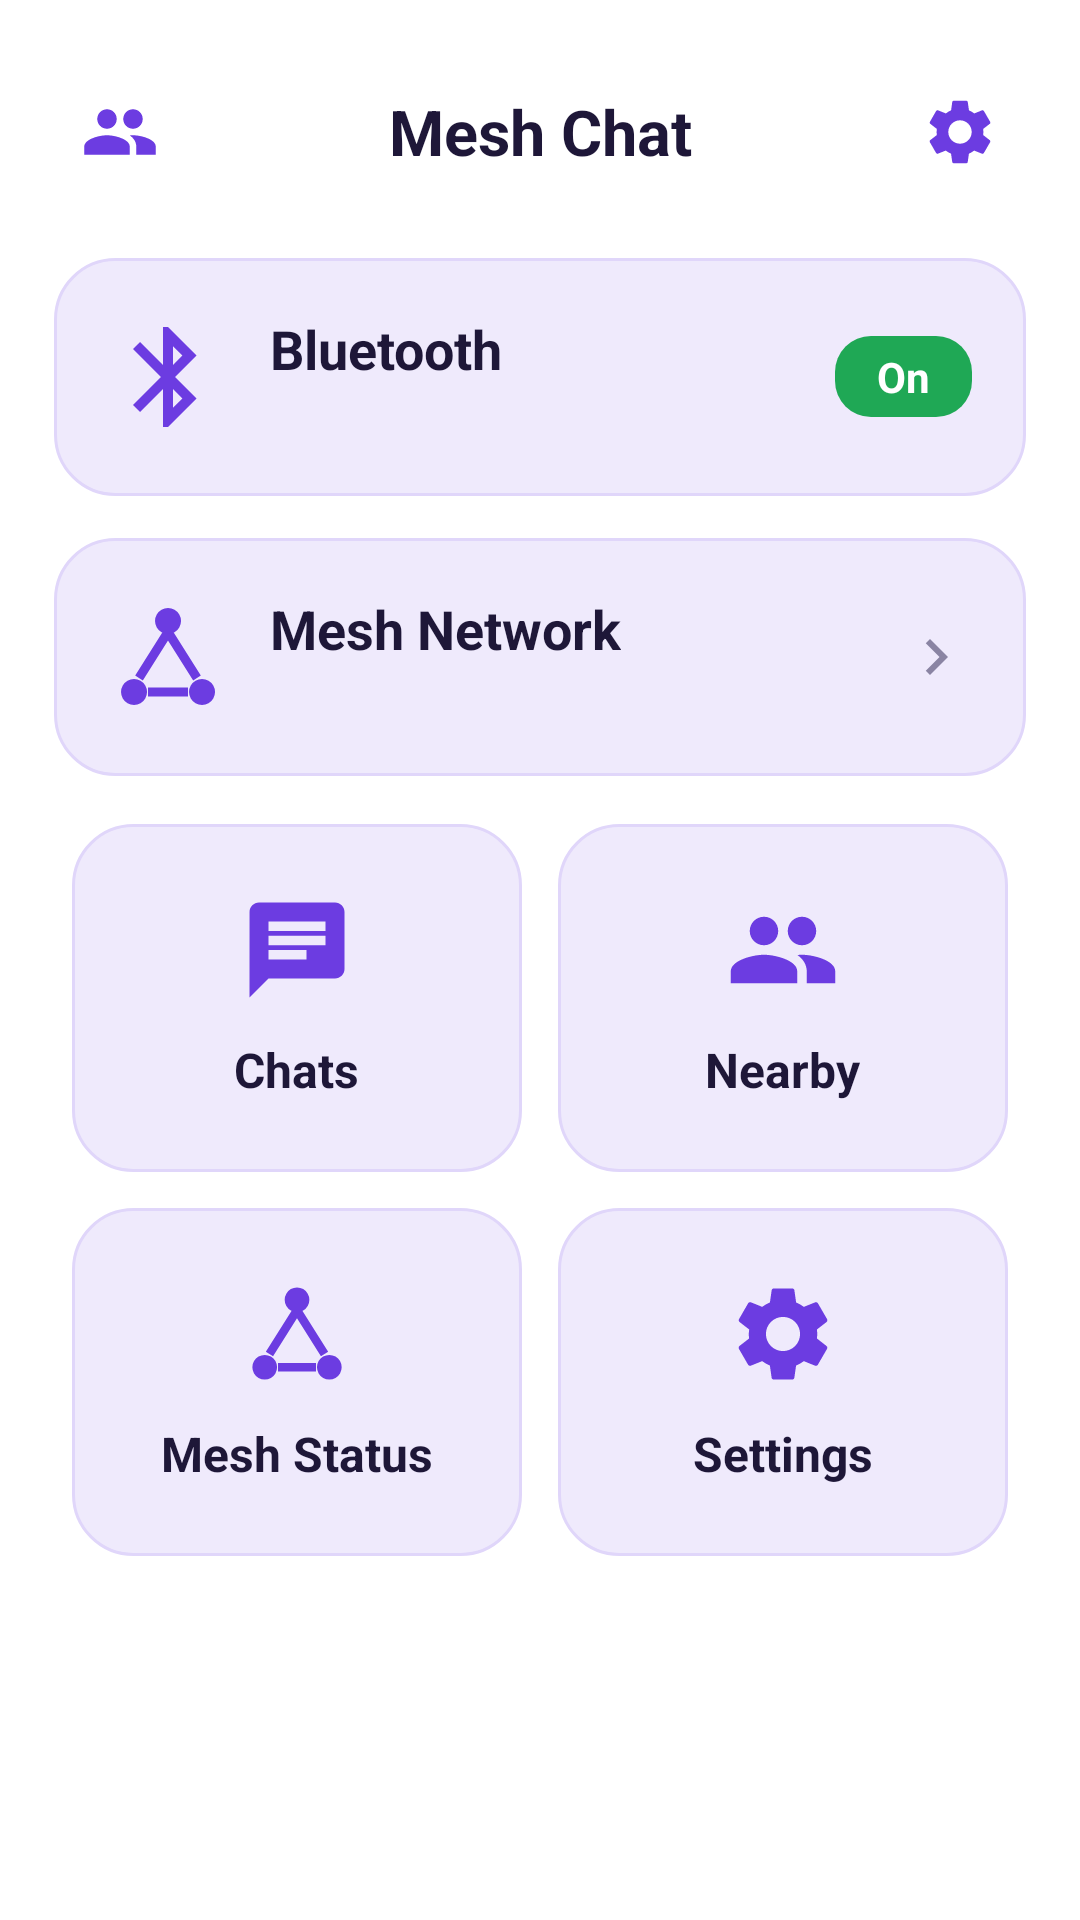

Icons on this 1080 x 1920 Android screen, each with the point to tap as (x,y):
chevron: (937,657)
people: (120,132), (783,950)
